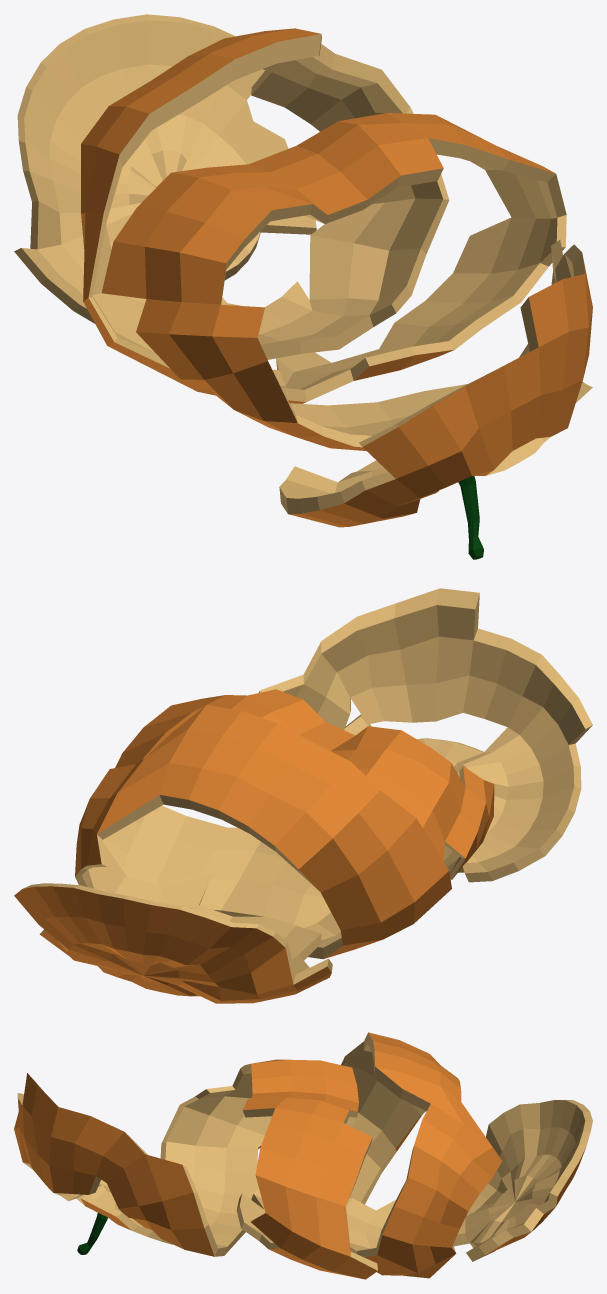
File: pelure_orange.fbx
The picture shows the model from 3 angles, top to bottom: view 1: azimuth 30°, elevation 25°; view 2: azimuth 150°, elevation 25°; view 3: azimuth 270°, elevation 25°; orthographic projection. The views are drawn at different scales.
Parts seen in each view (by area): view 1: orange; view 2: orange; view 3: orange.
Part boxes in pixels (bbox=[...]): orange: bbox=[14, 14, 592, 559]; orange: bbox=[14, 588, 592, 1003]; orange: bbox=[14, 1032, 592, 1279].
Size of the model in its own units: 198 by 143 by 351.
